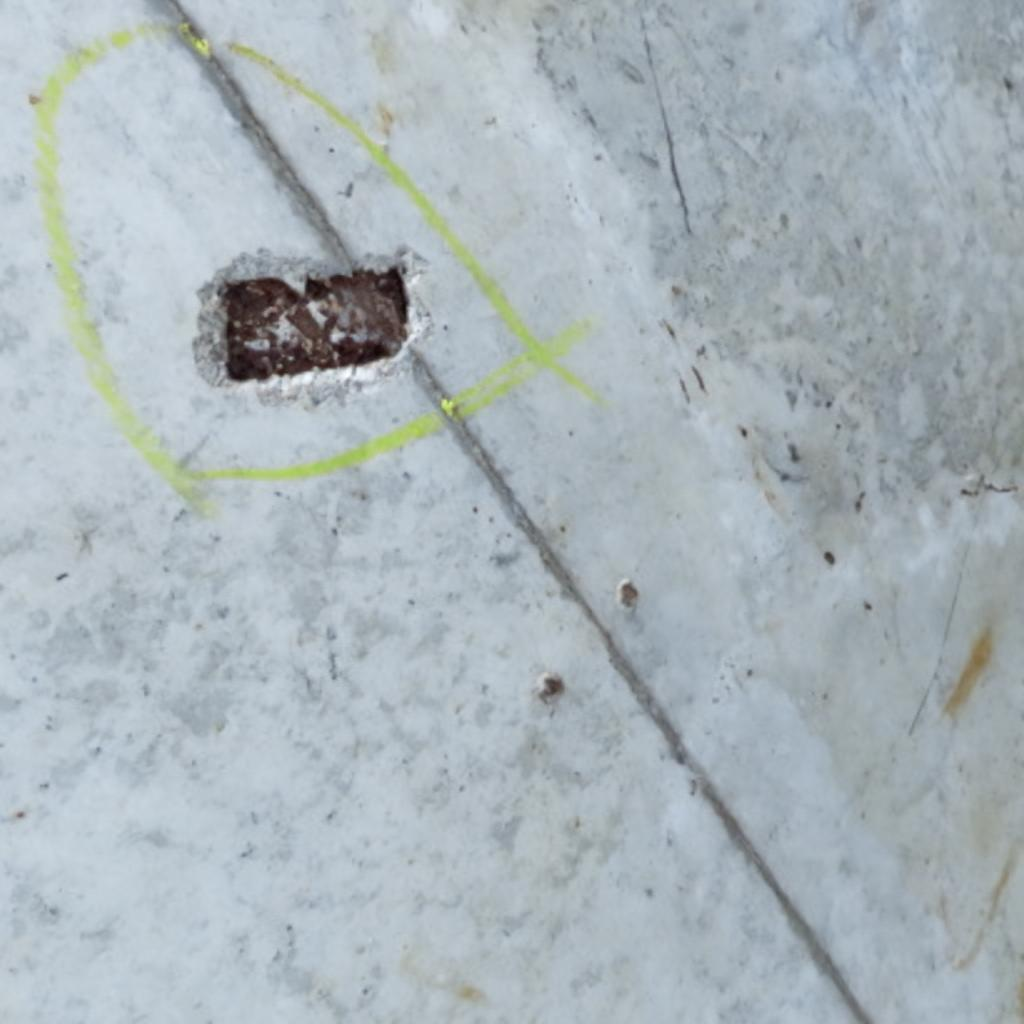exposed_rebar: (220, 268, 408, 380)
spalling: (194, 250, 428, 407)
